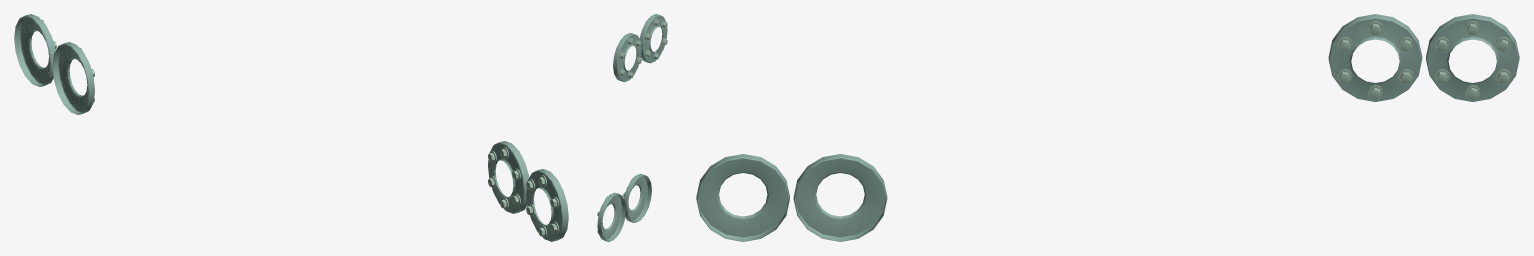
The model's file is PipeComplexLarge_A3_20_End.fbx.
3 renders of one model, left to right at view 1: azimuth 30°, elevation 25°; view 2: azimuth 150°, elevation 25°; view 3: azimuth 270°, elevation 25°, orthographic. The views are drawn at different scales.
Parts seen in each view (by area): view 1: PipeComplexLarge_A3_20_End.001; view 2: PipeComplexLarge_A3_20_End.001; view 3: PipeComplexLarge_A3_20_End.001.
Part boxes in pixels (x1=…): PipeComplexLarge_A3_20_End.001: x1=14, y1=14, x2=568, y2=241; PipeComplexLarge_A3_20_End.001: x1=597, y1=14, x2=667, y2=241; PipeComplexLarge_A3_20_End.001: x1=696, y1=14, x2=1519, y2=241.
Bounding box in the file's own units: 1.4 × 0.3846 × 3.38.
